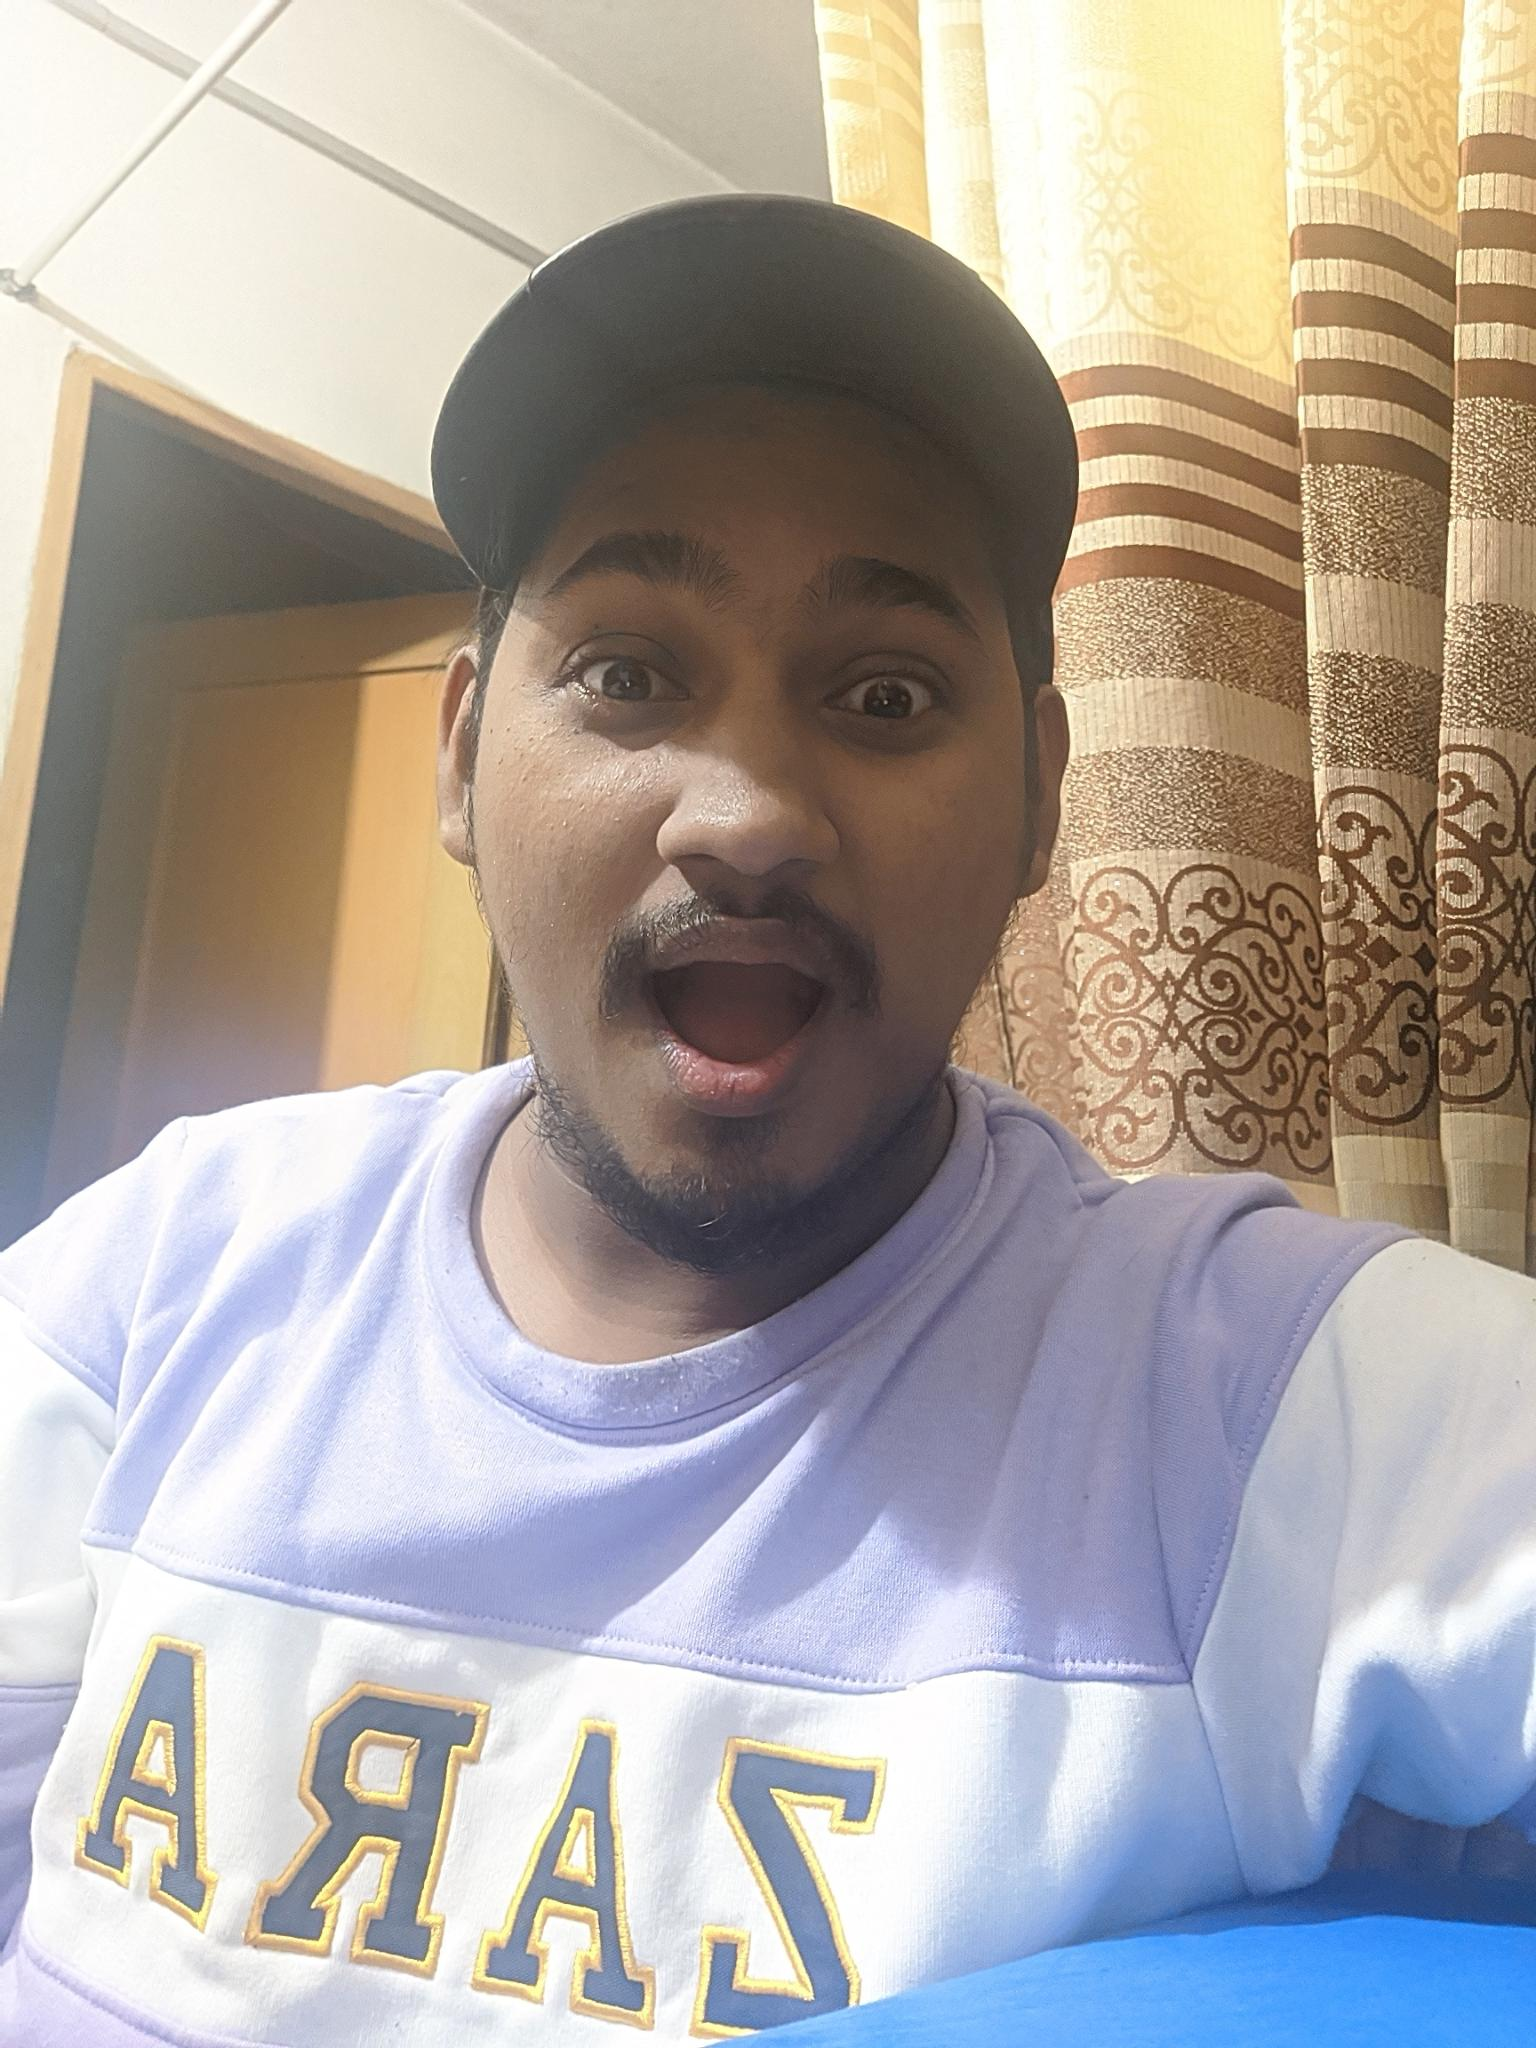Surprise: (473, 463, 1012, 1227)
